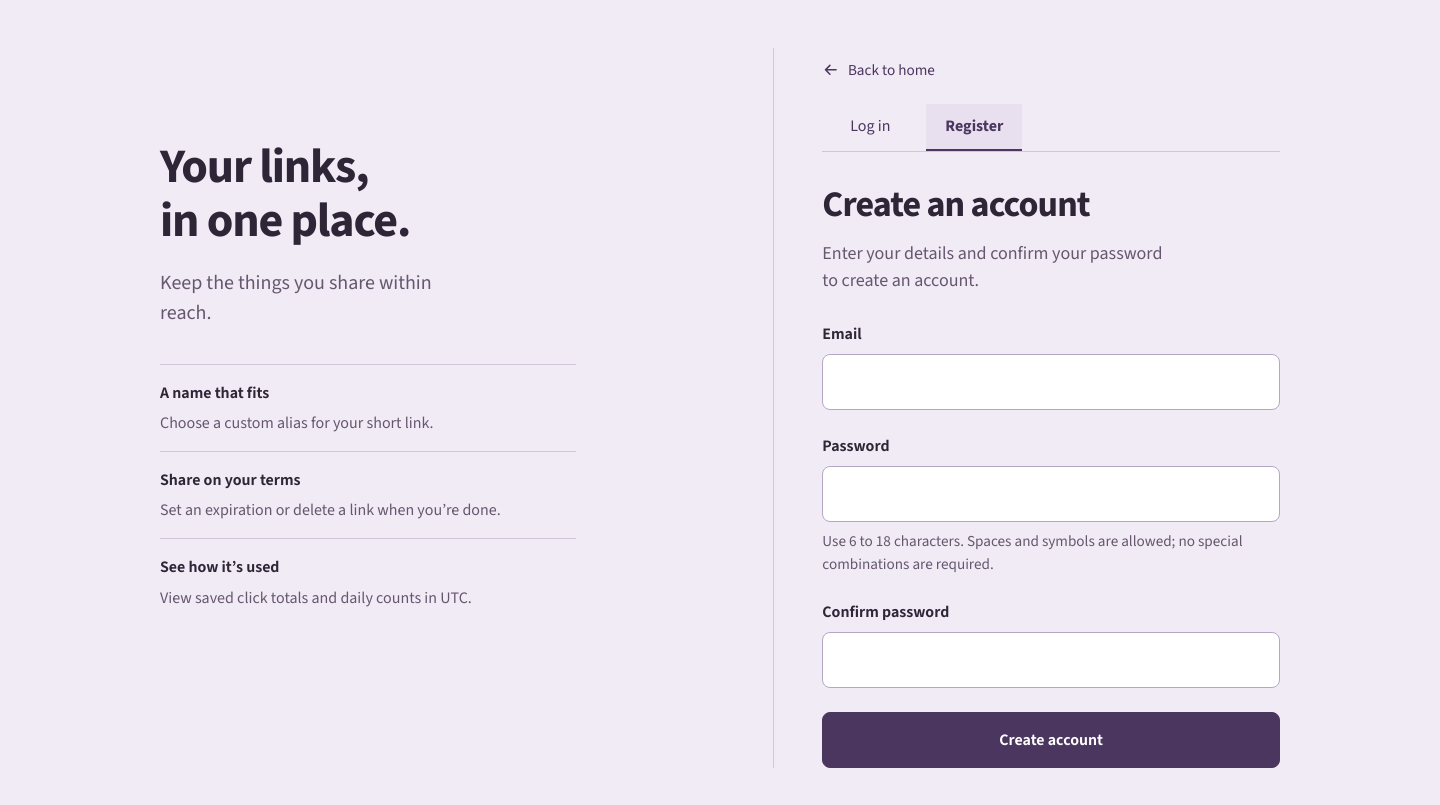
Test: registrazione › mostra errori accessibili senza inviare dati non validi
Click the button "Create account".
click(1051, 740)  # box [822,712,1280,768]
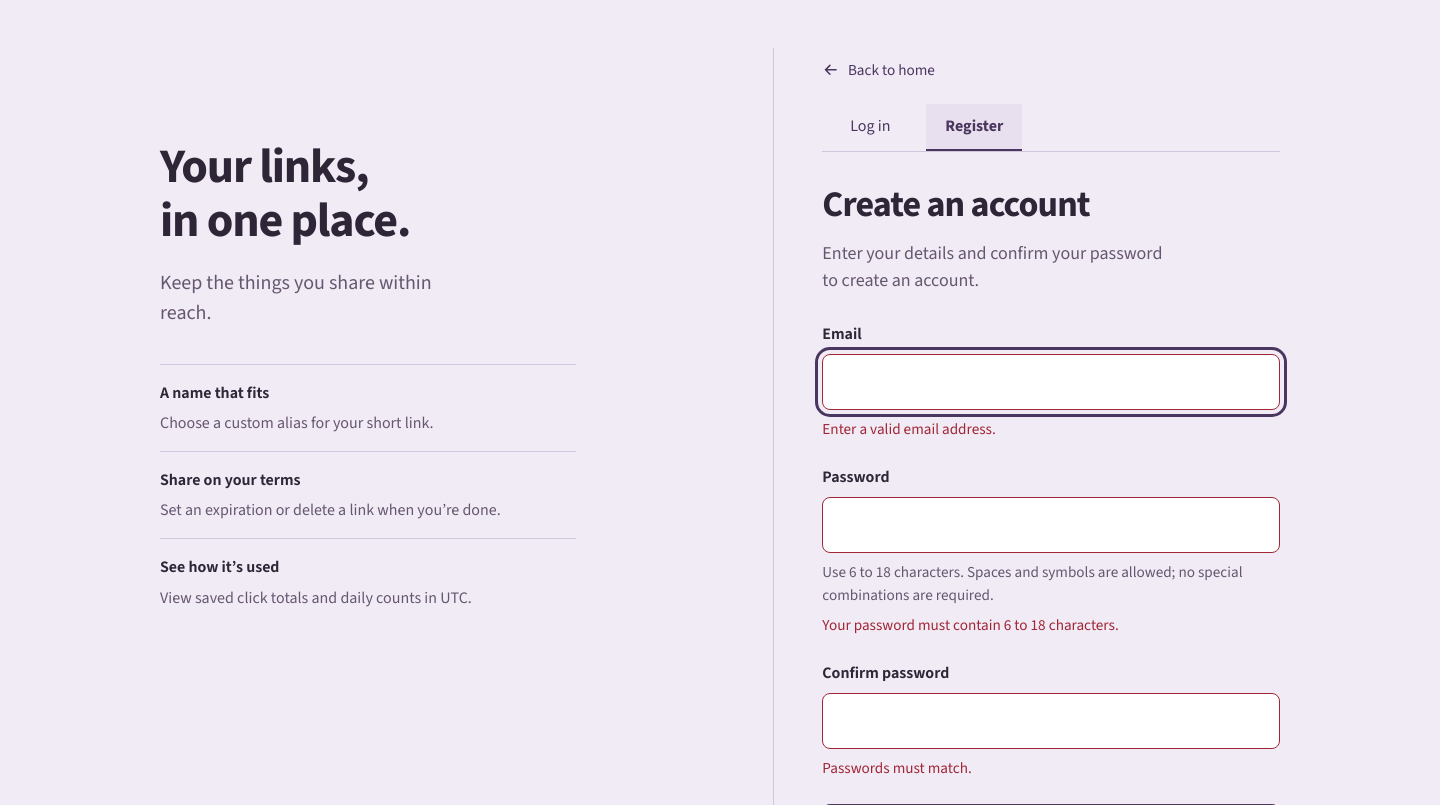
Result: the number of messages is 3 at [822,419,996,439]; [822,616,1119,636]; [822,758,972,778]
